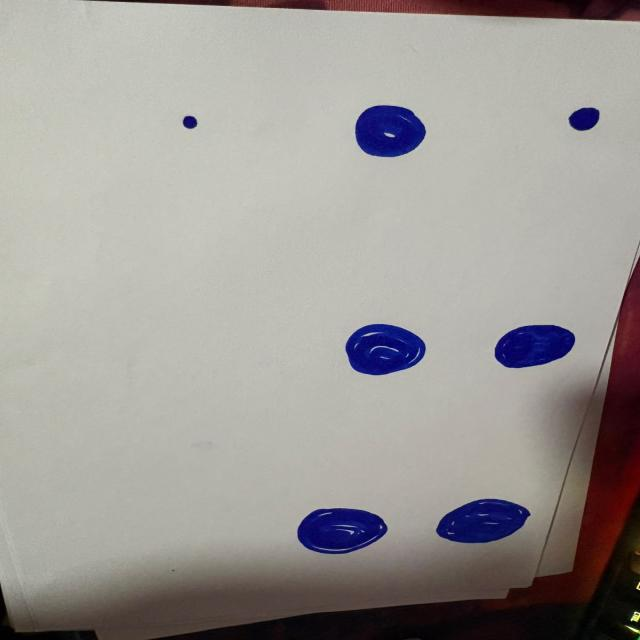Circle: (431, 494, 538, 548), (343, 320, 430, 378), (294, 506, 392, 556), (488, 322, 582, 374), (352, 102, 429, 161), (563, 104, 605, 134), (180, 114, 201, 130)
